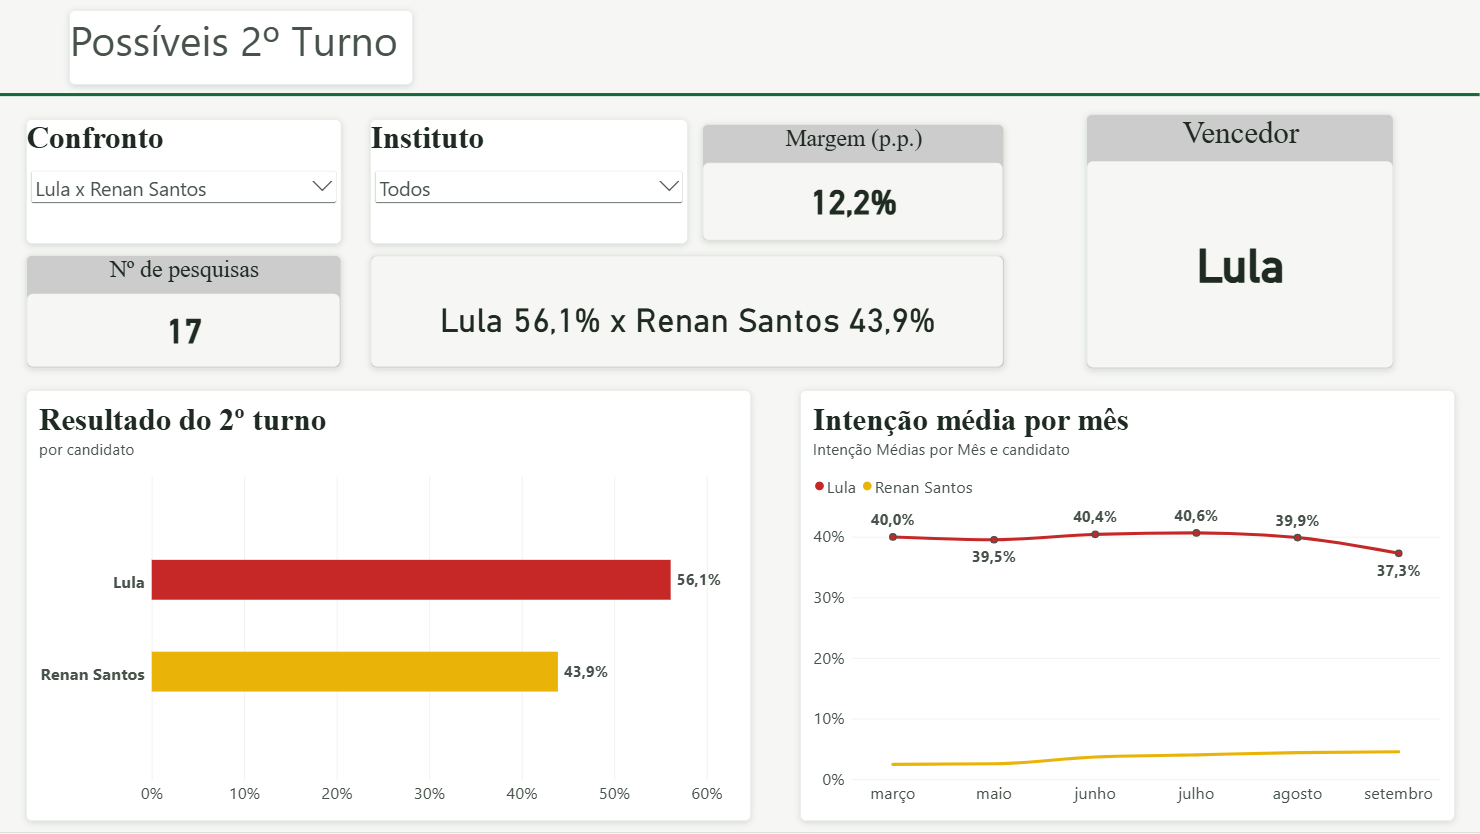

The dashboard page shown, as its layout file describes it:
{"tool":"powerbi","page":{"name":"Simulação 2 turno","canvas":[1920,1080],"ordinal":1},"visuals":[{"type":"slicer","title":"Confronto","fields":{"Values":["Duelos 2T.Confronto"]},"box":[35.3,156,408.6,161.6],"z":0},{"type":"clusteredBarChart","title":"Resultado do 2º turno","fields":{"Category":["Duelos 2T.candidato"],"Y":["medidas.% no Confronto"]},"box":[35.3,507,939.8,559],"z":1000},{"type":"cardVisual","fields":{"Data":["medidas.Placar"]},"box":[481,332.4,822.8,146.7],"z":2000},{"type":"lineChart","title":"Intenção média por mês","fields":{"Category":["Calendário.Date.Variation.Hierarquia de datas.Mês","Calendário.Date.Variation.Hierarquia de datas.Dia"],"Series":["main.candidate"],"Y":["medidas.Intenção Médias"]},"box":[1038.2,507,848.8,559],"z":3000},{"type":"shape","box":[0,97.5,1919.6,53.4],"z":4000},{"type":"textbox","box":[91,14.9,445.7,96.6],"z":6000},{"type":"cardVisual","title":"Margem (p.p.)","fields":{"Data":["medidas.Margem pp"]},"box":[911.9,161.6,391.9,152.3],"z":6500},{"type":"cardVisual","title":"Vencedor","fields":{"Data":["medidas.Vencedor"]},"box":[1409.6,148.6,399.3,330.6],"z":7000},{"type":"cardVisual","title":"Nº de pesquisas","fields":{"Data":["medidas.Nº de pesquisas"]},"box":[35.3,332.4,408.6,146.7],"z":8000},{"type":"slicer","title":"Instituto","fields":{"Values":["Duelos 2T.institute"]},"box":[481,156,412.3,161.6],"z":9000}]}

Visuals, with their boxes in screenshot pixels (x1, y1, x2, y2), scaled from the page's 1920x1080 canvas onto the 1480x834 screenshot:
"Confronto" slicer: bbox(27, 120, 342, 245)
"Resultado do 2º turno" clusteredBarChart: bbox(27, 392, 752, 823)
cardVisual - medidas.Placar: bbox(371, 257, 1005, 370)
"Intenção média por mês" lineChart: bbox(800, 392, 1455, 823)
shape: bbox(0, 75, 1479, 117)
textbox: bbox(70, 12, 414, 86)
"Margem (p.p.)" cardVisual: bbox(703, 125, 1005, 242)
"Vencedor" cardVisual: bbox(1087, 115, 1394, 370)
"Nº de pesquisas" cardVisual: bbox(27, 257, 342, 370)
"Instituto" slicer: bbox(371, 120, 689, 245)
